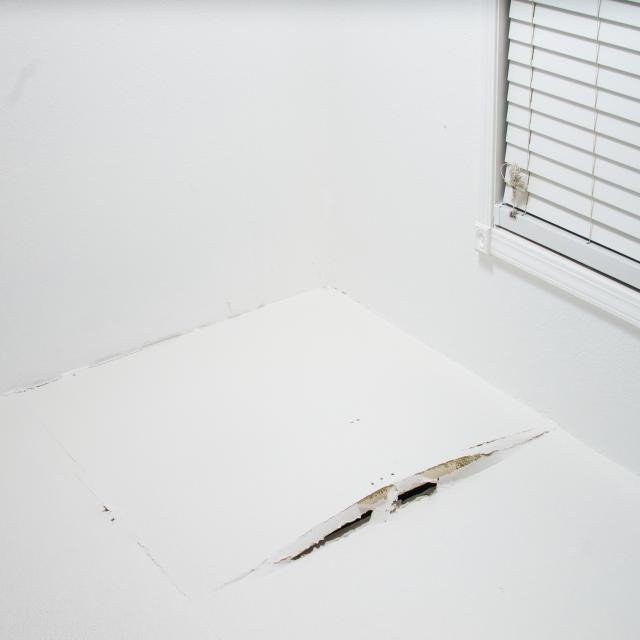Crack: (200, 424, 570, 594), (30, 386, 186, 600)
